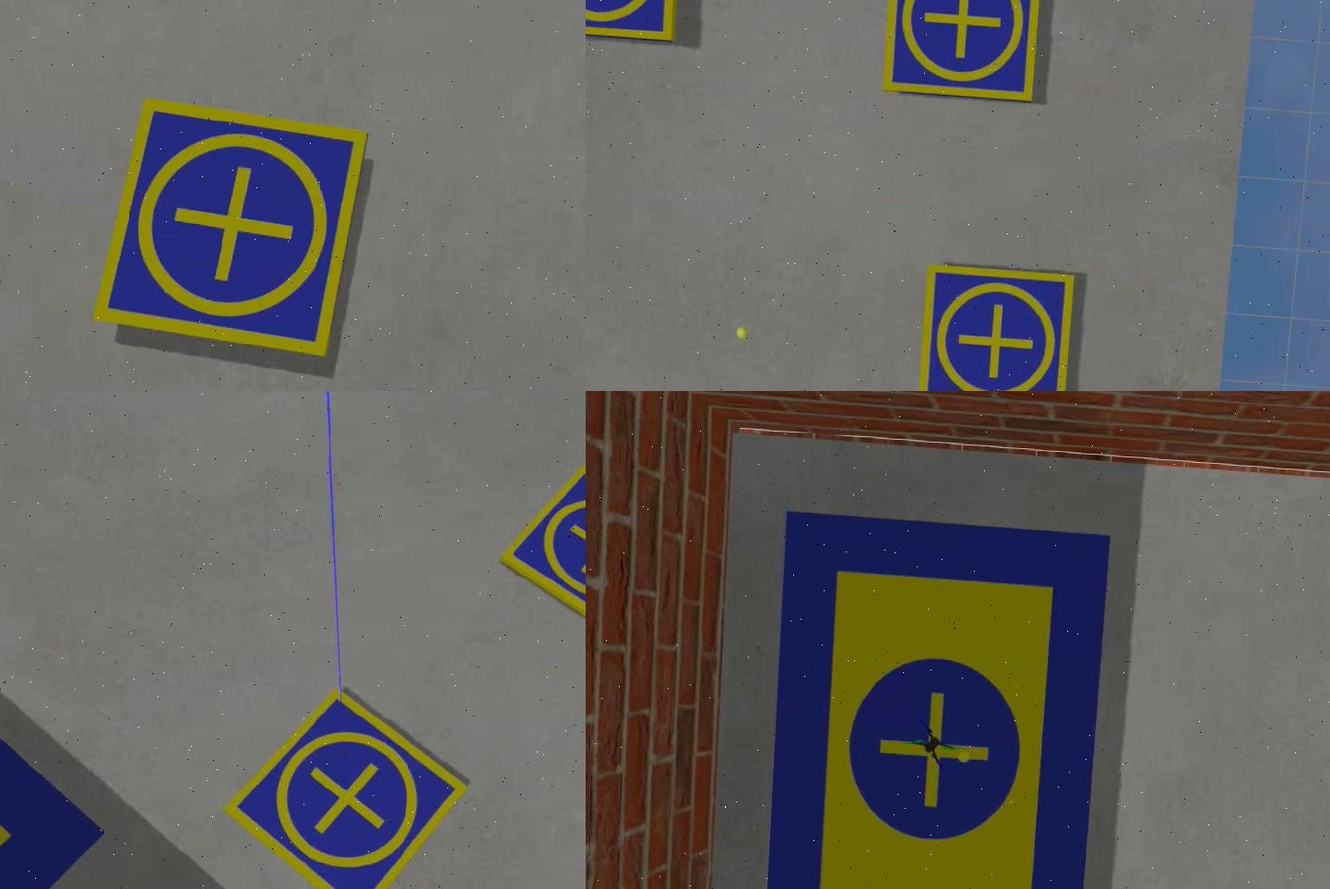large_base: (757, 509, 1109, 889)
small_base: (92, 97, 365, 362), (215, 683, 472, 889), (912, 264, 1074, 391), (879, 1, 1041, 104), (493, 464, 584, 646), (584, 1, 681, 42)
